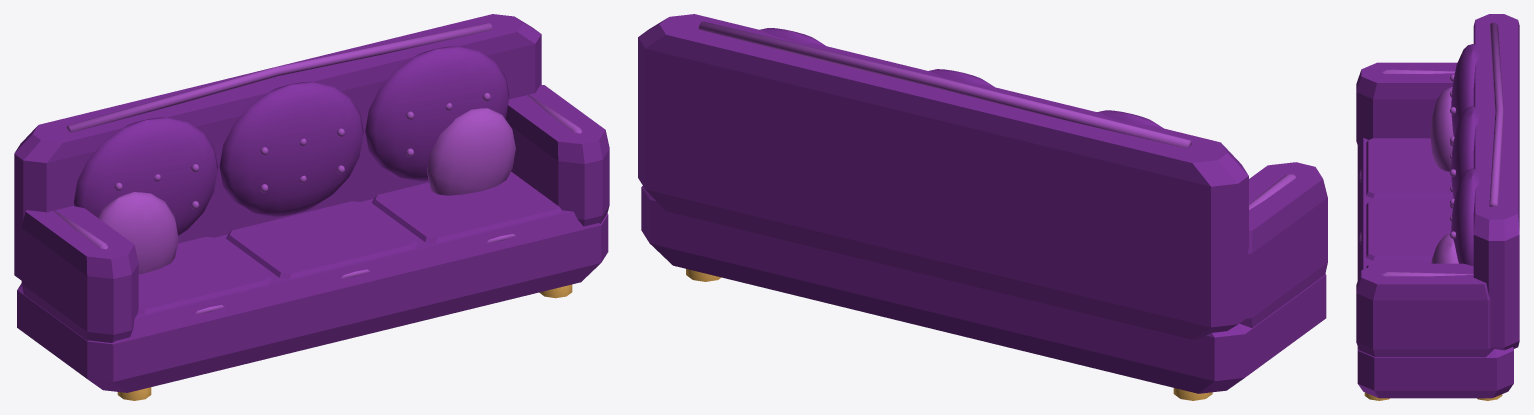
File: sofa-plum.glb
The picture shows the model from 3 angles, left to right: view 1: azimuth 30°, elevation 25°; view 2: azimuth 150°, elevation 25°; view 3: azimuth 270°, elevation 25°; orthographic projection. The views are drawn at different scales.
Visible parts, largest first — view 1: sofa-plum · Plum upholstery, sofa-plum · Plum upholstery.001, sofa-plum · Plum piping, sofa-plum · Brushed brass; view 2: sofa-plum · Plum upholstery, sofa-plum · Plum piping, sofa-plum · Plum upholstery.001; view 3: sofa-plum · Plum upholstery, sofa-plum · Plum upholstery.001, sofa-plum · Plum piping, sofa-plum · Brushed brass.
Part boxes in pixels (left/top/right/bottom): sofa-plum · Plum upholstery: left=14, top=14, right=609, bottom=392; sofa-plum · Plum upholstery.001: left=73, top=46, right=509, bottom=235; sofa-plum · Plum piping: left=53, top=23, right=582, bottom=314; sofa-plum · Brushed brass: left=117, top=284, right=572, bottom=400; sofa-plum · Plum upholstery: left=638, top=14, right=1327, bottom=393; sofa-plum · Plum piping: left=698, top=21, right=1295, bottom=209; sofa-plum · Plum upholstery.001: left=759, top=28, right=1163, bottom=128; sofa-plum · Plum upholstery: left=1356, top=14, right=1519, bottom=398; sofa-plum · Plum upholstery.001: left=1451, top=44, right=1479, bottom=265; sofa-plum · Plum piping: left=1359, top=22, right=1503, bottom=276; sofa-plum · Brushed brass: left=1364, top=392, right=1502, bottom=400.
Bounding box in the file's own units: 3.55 × 1.46 × 1.1.
